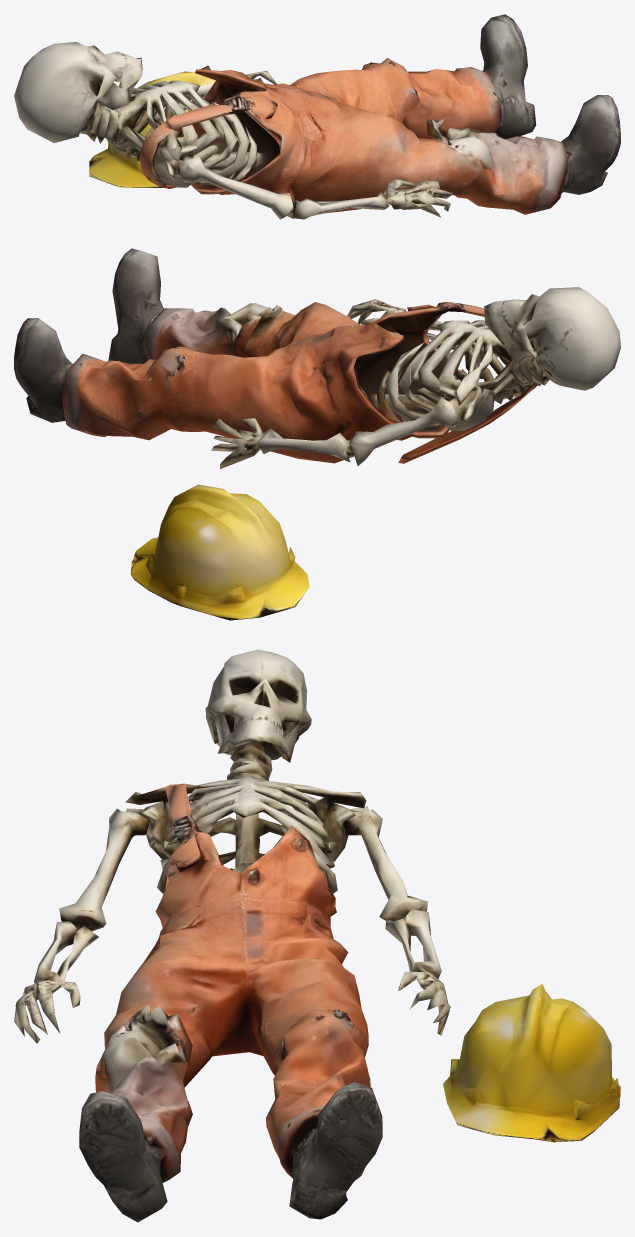
File: qr_remains.glb
3 renders of one model, top to bottom at view 1: azimuth 30°, elevation 25°; view 2: azimuth 150°, elevation 25°; view 3: azimuth 270°, elevation 25°, orthographic. The views are drawn at different scales.
Visible parts, largest first — view 1: tripo_node_eb0bd2e5-b798-4519-aadc-a676eb0ce6ea; view 2: tripo_node_eb0bd2e5-b798-4519-aadc-a676eb0ce6ea; view 3: tripo_node_eb0bd2e5-b798-4519-aadc-a676eb0ce6ea.
Part boxes in pixels (x1,y1,x2,y2): tripo_node_eb0bd2e5-b798-4519-aadc-a676eb0ce6ea: (14, 14, 620, 219); tripo_node_eb0bd2e5-b798-4519-aadc-a676eb0ce6ea: (14, 248, 620, 620); tripo_node_eb0bd2e5-b798-4519-aadc-a676eb0ce6ea: (14, 649, 620, 1222).
Size of the model in its own units: 1 by 0.4597 by 0.7973.
Materials: 1 (1 with a texture image).
